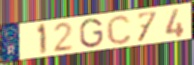1: (35, 22, 49, 56)
2: (52, 21, 75, 53)
4: (164, 7, 186, 39)
7: (136, 9, 159, 43)
C: (105, 14, 133, 46)
G: (78, 17, 105, 49)
